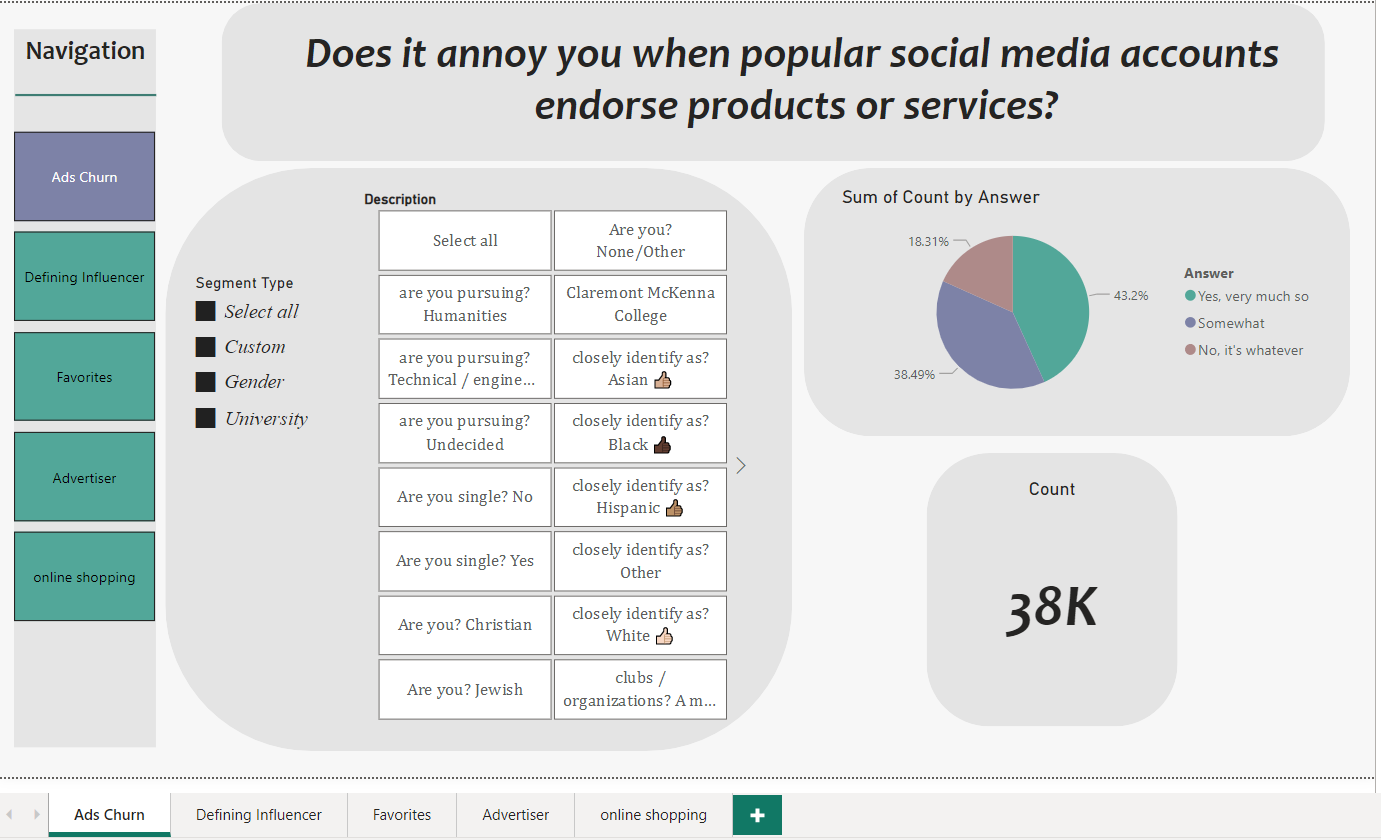

Layout of this report page (visuals, bound fields, positions):
{"tool":"powerbi","page":{"name":"Ads Churn ","canvas":[1280,720],"ordinal":0},"visuals":[{"type":"shape","box":[13.7,24.7,131.7,668.3],"z":0},{"type":"shape","box":[207.2,0,1026.4,146.8],"z":1000},{"type":"shape","box":[155.1,153.7,583.2,542],"z":2000},{"type":"shape","box":[862.8,418.6,233.7,254.7],"z":3000},{"type":"shape","box":[749.2,153.7,507.7,249.7],"z":4000},{"type":"card","fields":{"Values":["Min(Churn_from_ads.Question)"]},"box":[241.5,0,992.1,126.2],"z":5000},{"type":"card","title":"Count","fields":{"Values":["Sum(Churn_from_ads.Count)"]},"box":[880.2,441.9,198.8,208.1],"z":6000},{"type":"slicer","fields":{"Values":["Churn_from_ads.Segment Description"]},"box":[326.6,170.2,374.6,503.6],"z":7000},{"type":"pieChart","fields":{"Category":["Churn_from_ads.Answer"],"Y":["Sum(Churn_from_ads.Count)"]},"box":[779.4,170.2,454.2,216.8],"z":8000},{"type":"slicer","fields":{"Values":["Churn_from_ads.Segment Type"]},"box":[169.8,246.5,157,229.1],"z":9000},{"type":"pageNavigator","box":[14,119.8,131.4,458.1],"z":10000},{"type":"textbox","box":[0,24.4,160.5,58.1],"z":11000},{"type":"shape","box":[15.1,74.4,131.4,22.1],"z":12000}]}

Visuals, with their boxes on the page's 1280x720 design canvas (x1, y1, x2, y2). These are canvas units, not pixel positions in the 1381x840 screenshot, which may show the page scaled, cropped or inside an application window:
shape: 14:25:145:693
shape: 207:0:1234:147
shape: 155:154:738:696
shape: 863:419:1096:673
shape: 749:154:1257:403
card - Min(Churn_from_ads.Question): 242:0:1234:126
"Count" card: 880:442:1079:650
slicer - Churn_from_ads.Segment Description: 327:170:701:674
pieChart - Churn_from_ads.Answer x Sum(Churn_from_ads.Count): 779:170:1234:387
slicer - Churn_from_ads.Segment Type: 170:246:327:476
pageNavigator: 14:120:145:578
textbox: 0:24:160:82
shape: 15:74:146:96
